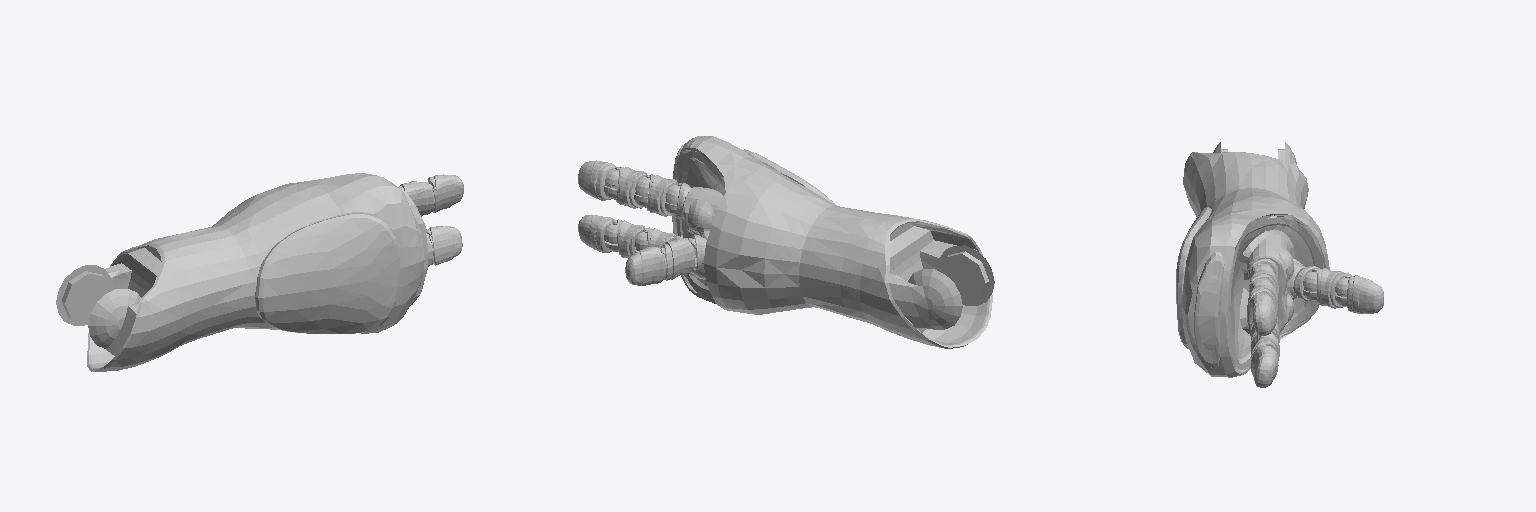
The model's file is RElbowRollComplete.obj.
3 renders of one model, left to right at view 1: azimuth 30°, elevation 25°; view 2: azimuth 150°, elevation 25°; view 3: azimuth 270°, elevation 25°, orthographic.
Visible parts, largest first — view 1: root; view 2: root; view 3: root.
Boxes of the visible parts, x1,y1,x2,y2 form: root: [56, 173, 463, 371]; root: [578, 136, 994, 348]; root: [1176, 142, 1383, 387].
Size of the model in its own units: 186 by 68.29 by 85.28.